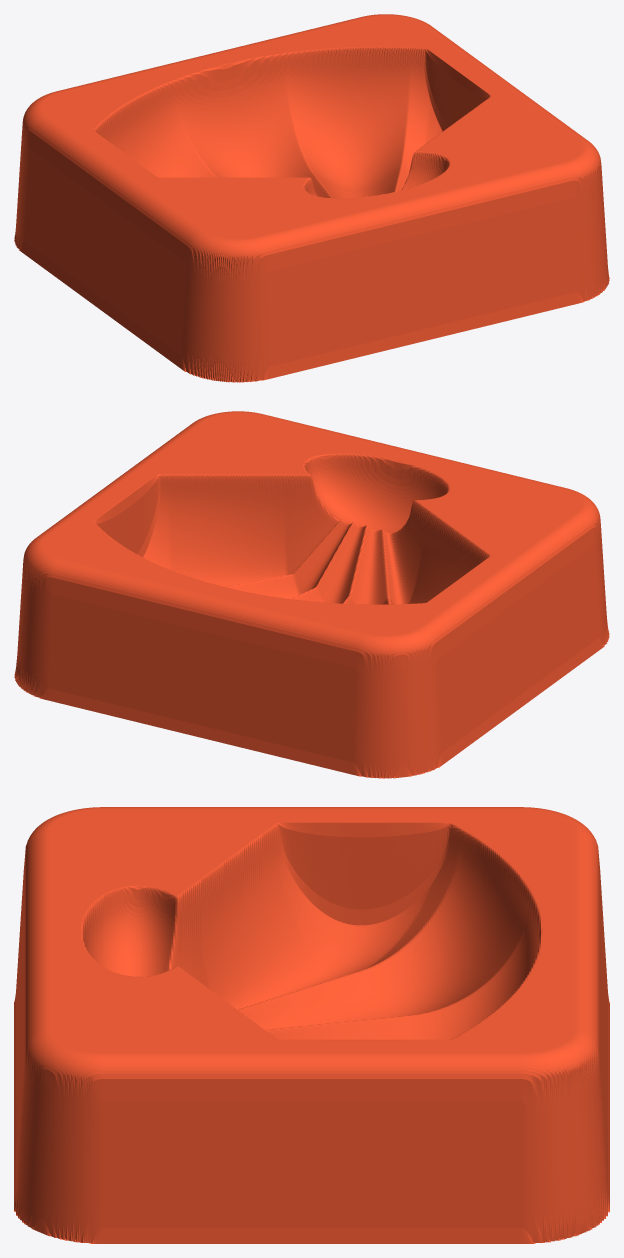
File: mold.glb
3 renders of one model, top to bottom at view 1: azimuth 30°, elevation 25°; view 2: azimuth 150°, elevation 25°; view 3: azimuth 270°, elevation 25°, orthographic. The views are drawn at different scales.
Parts seen in each view (by area): view 1: geometry_0; view 2: geometry_0; view 3: geometry_0.
Part boxes in pixels (x1,y1,x2,y2): geometry_0: [14, 14, 609, 382]; geometry_0: [14, 411, 609, 778]; geometry_0: [14, 807, 609, 1243].
Bounding box in the file's own units: 0.0658 × 0.0197 × 0.0606.
